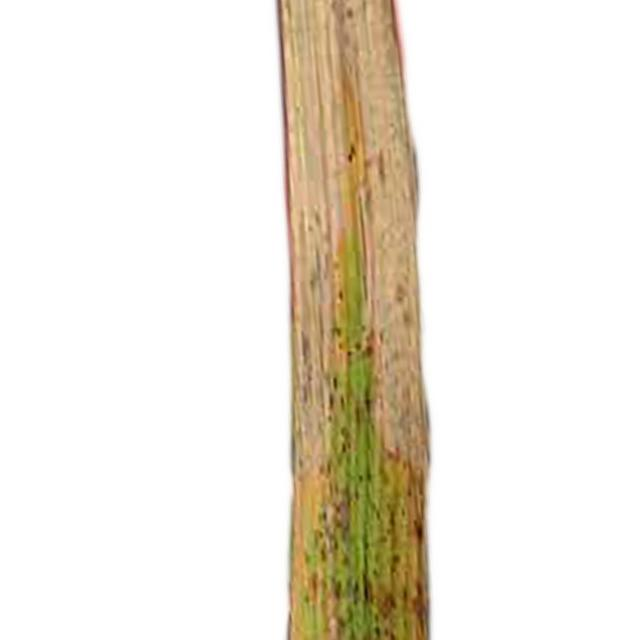Leaf scald: (227, 0, 540, 640)
